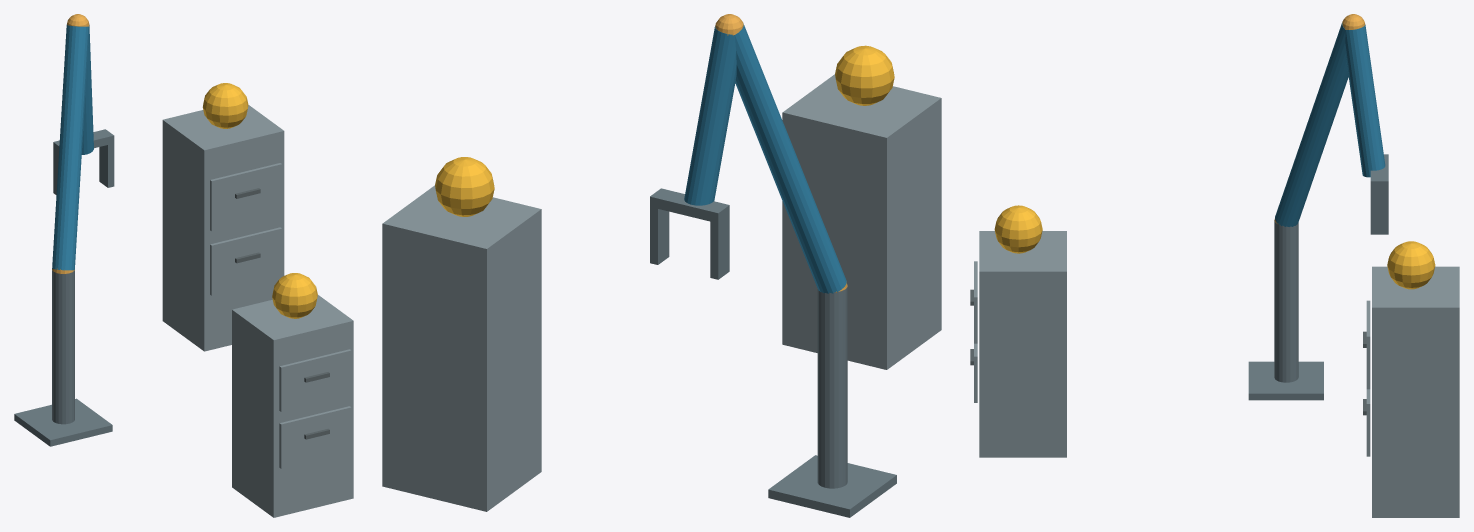
3 views of the same model, side by side, from view 1: azimuth 30°, elevation 25°; view 2: azimuth 150°, elevation 25°; view 3: azimuth 270°, elevation 25° (orthographic). The views are drawn at different scales.
Parts seen in each view (by area): view 1: cabinet_2 body, cabinet_1 body, moving link 1, cabinet_2 drawer front.001, cabinet_2 drawer front, fixed post, cabinet_1 drawer front.001, cabinet_1 drawer front, pedestal, released ball_1, ball ball_2, moving link 2 (+2 smaller); view 2: cabinet_2 body, cabinet_1 body, moving link 1, fixed post, moving link 2, pedestal, released ball_1, ball ball_2, gripper bridge, gripper finger -1, gripper finger 1; view 3: cabinet_2 body, cabinet_1 body, moving link 1, fixed post, moving link 2, pedestal, released ball_1, ball ball_2, gripper finger 1.
Part boxes in pixels (<box>): cabinet_2 body: <box>162,105,284,351</box>; cabinet_1 body: <box>232,295,353,517</box>; moving link 1: <box>52,25,89,270</box>; cabinet_2 drawer front.001: <box>210,163,281,231</box>; cabinet_2 drawer front: <box>210,227,281,295</box>; fixed post: <box>52,270,74,424</box>; cabinet_1 drawer front.001: <box>279,349,351,411</box>; cabinet_1 drawer front: <box>279,406,351,468</box>; pedestal: <box>14,398,112,446</box>; released ball_1: <box>272,273,317,318</box>; ball ball_2: <box>202,83,248,128</box>; moving link 2: <box>81,25,93,154</box>; cabinet_2 body: <box>382,185,541,511</box>; cabinet_1 body: <box>782,74,941,369</box>; moving link 1: <box>735,23,846,293</box>; fixed post: <box>817,285,847,488</box>; moving link 2: <box>684,26,736,205</box>; pedestal: <box>768,455,896,517</box>; released ball_1: <box>835,45,894,105</box>; ball ball_2: <box>435,157,494,216</box>; gripper bridge: <box>650,188,729,223</box>; gripper finger -1: <box>710,215,729,279</box>; gripper finger 1: <box>650,207,669,264</box>; cabinet_2 body: <box>1372,266,1459,517</box>; cabinet_1 body: <box>979,231,1066,457</box>; moving link 1: <box>1275,23,1348,226</box>; fixed post: <box>1274,221,1298,382</box>; moving link 2: <box>1345,25,1385,177</box>; pedestal: <box>1248,361,1323,400</box>; released ball_1: <box>994,205,1042,253</box>; ball ball_2: <box>1387,241,1435,289</box>; gripper finger 1: <box>1370,189,1388,234</box>.
Bounding box in the file's own units: 1.17 × 1.44 × 1.62.
